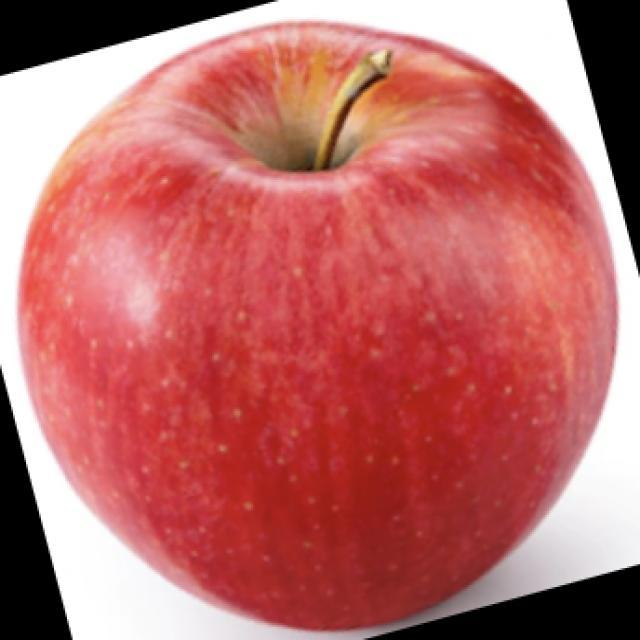Fresh Apple: (14, 27, 618, 633)
